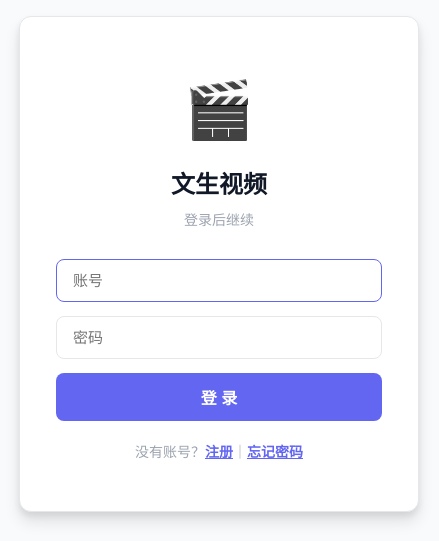
模式切换 › 忘记密码下可返回登录
Click the button "忘记密码": (275, 451) [247,441,303,461]
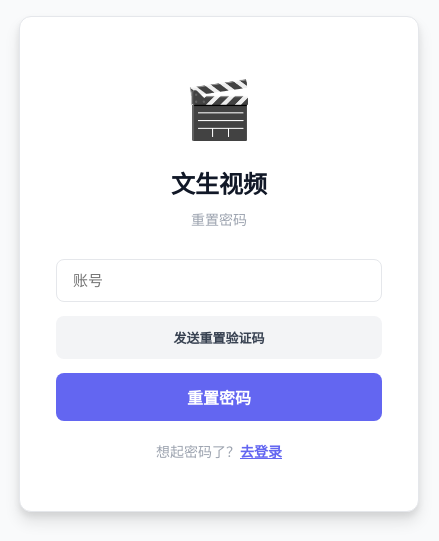
Click the button "去登录": (261, 451) [240,441,282,461]
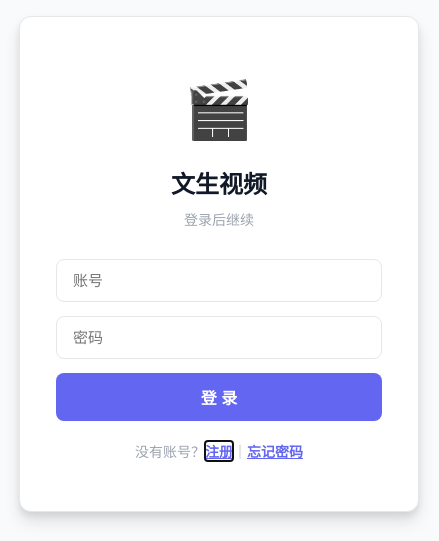
expect the text "登录后继续" is shown: met, box [184,211,254,228]
